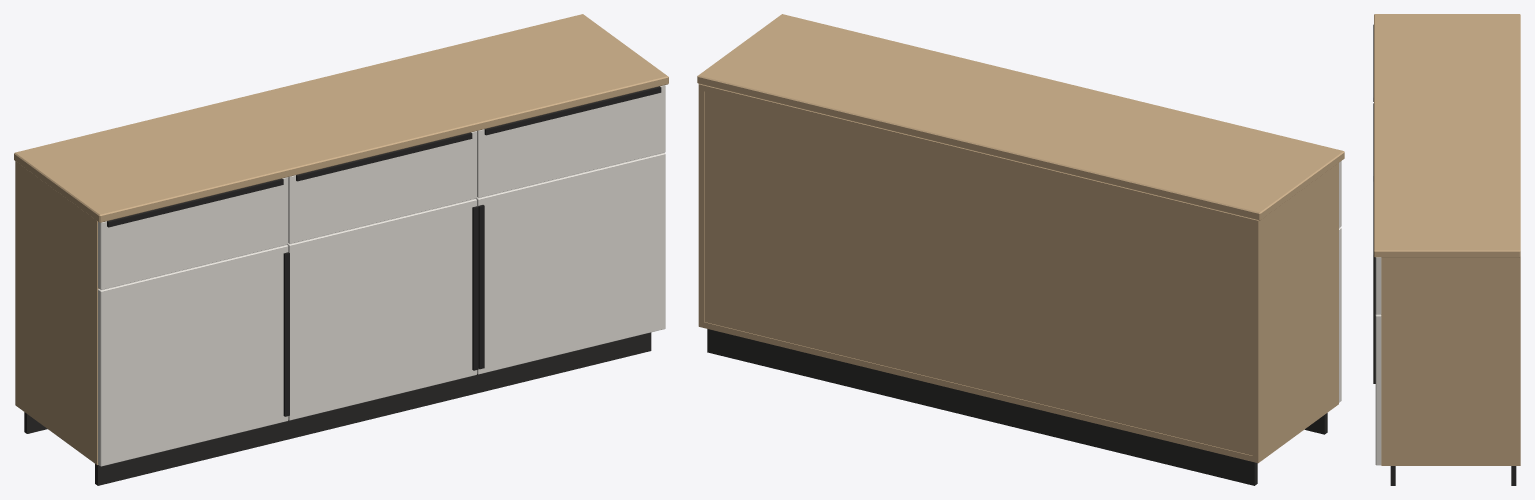
Rendered from 26_komoda_180_3d_3sz.glb.
The picture shows the model from 3 angles, left to right: view 1: azimuth 30°, elevation 25°; view 2: azimuth 150°, elevation 25°; view 3: azimuth 270°, elevation 25°; orthographic projection. The views are drawn at different scales.
Parts seen in each view (by area): view 1: Wierzch, Front_drzwi_2, Front_drzwi_4, Front_drzwi_6, Korpus, Front_szuflada_1, Front_szuflada_3, Front_szuflada_5, Cokol, Uchwyty; view 2: Korpus, Wierzch, Cokol; view 3: Wierzch, Korpus, Front_drzwi_6, Uchwyty, Front_szuflada_5, Cokol.
Boxes of the visible parts, x1=… form: Wierzch: x1=14, y1=14, x2=668, y2=222; Front_drzwi_2: x1=98, y1=245, x2=288, y2=466; Front_drzwi_4: x1=287, y1=199, x2=476, y2=420; Front_drzwi_6: x1=476, y1=153, x2=665, y2=374; Korpus: x1=15, y1=161, x2=98, y2=464; Front_szuflada_1: x1=98, y1=177, x2=288, y2=289; Front_szuflada_3: x1=288, y1=131, x2=476, y2=243; Front_szuflada_5: x1=477, y1=85, x2=665, y2=197; Cokol: x1=24, y1=332, x2=651, y2=485; Uchwyty: x1=107, y1=86, x2=661, y2=416; Korpus: x1=698, y1=84, x2=1338, y2=463; Wierzch: x1=697, y1=14, x2=1344, y2=220; Cokol: x1=707, y1=329, x2=1327, y2=485; Wierzch: x1=1374, y1=14, x2=1520, y2=257; Korpus: x1=1381, y1=257, x2=1520, y2=465; Front_drzwi_6: x1=1375, y1=314, x2=1381, y2=465; Uchwyty: x1=1373, y1=24, x2=1375, y2=383; Front_szuflada_5: x1=1375, y1=257, x2=1381, y2=314; Cokol: x1=1390, y1=466, x2=1516, y2=485.
Bounding box in the file's own units: 1.81 × 0.85 × 0.476.
